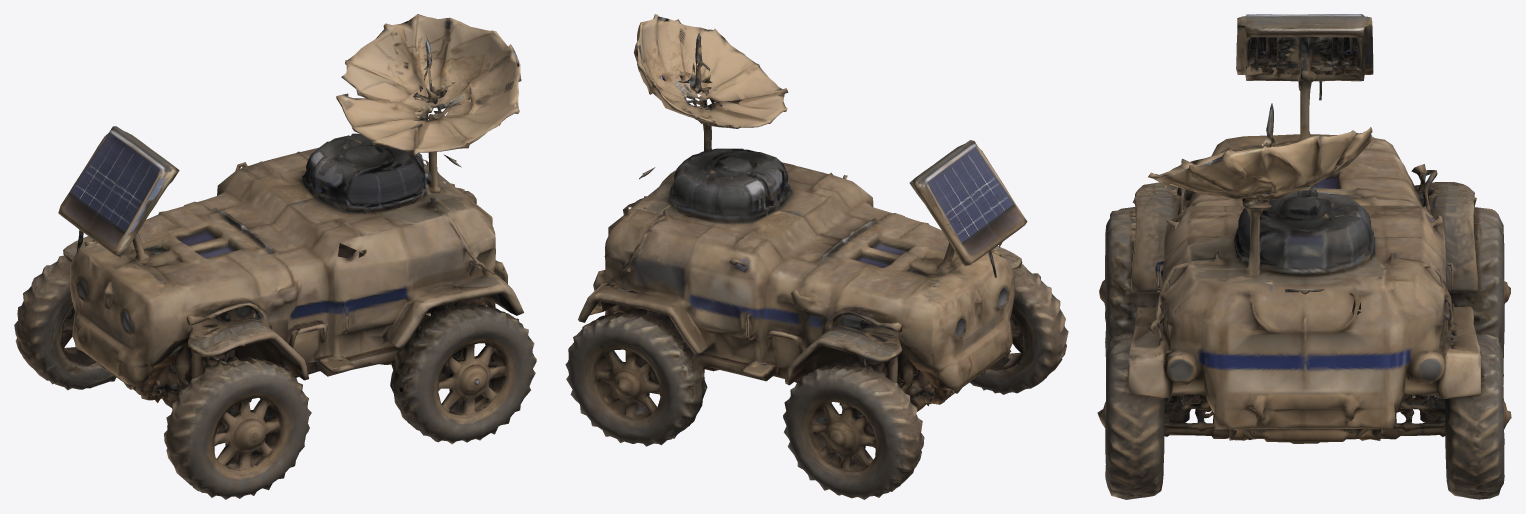
The model's file is Dusty_Explorer_1020195240_texture.fbx.
3 renders of one model, left to right at view 1: azimuth 30°, elevation 25°; view 2: azimuth 150°, elevation 25°; view 3: azimuth 270°, elevation 25°, orthographic. The views are drawn at different scales.
Parts seen in each view (by area): view 1: input; view 2: input; view 3: input.
Part boxes in pixels (x1,y1,x2,y2): input: (14,14,536,499); input: (565,14,1068,499); input: (1097,14,1511,499).
Bounding box in the file's own units: 193 × 164 × 154.
Materials: 1 (1 with a texture image).
